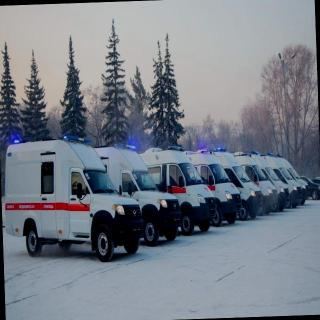Ambulance: (0, 119, 157, 273)
